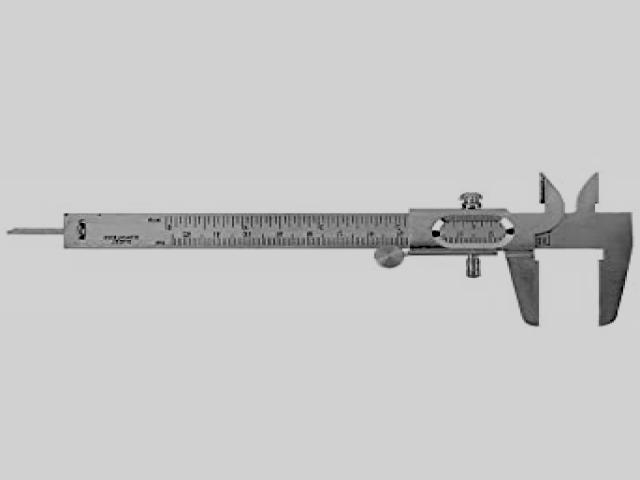Calipers: (7, 173, 632, 325)
